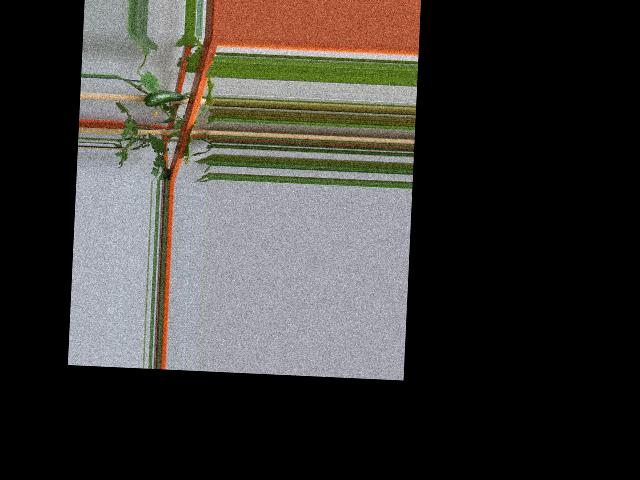cucumber: (140, 89, 183, 108)
